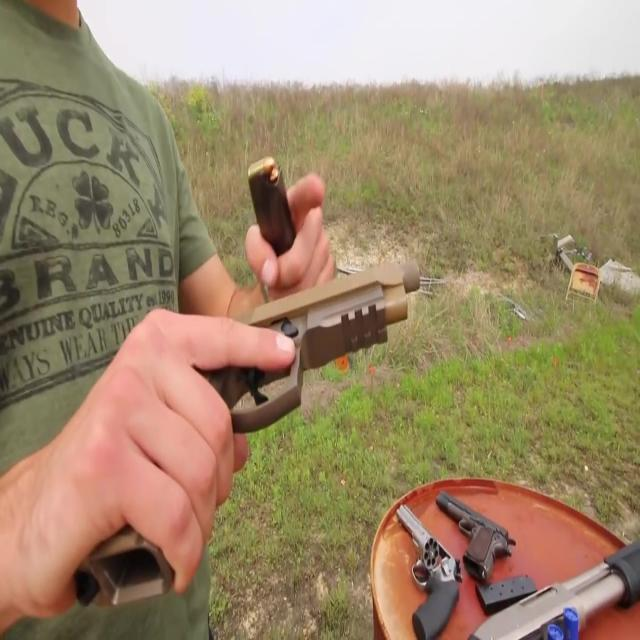Weapon: (47, 116, 640, 640)
